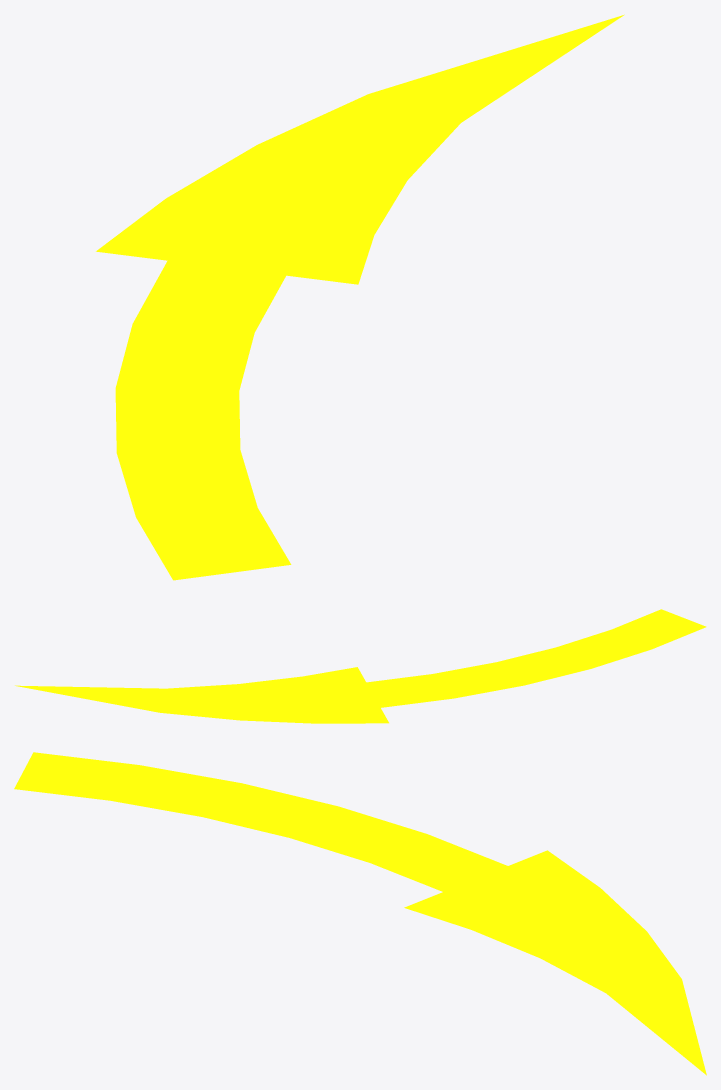
Rendered from Arrow_right.glb.
The picture shows the model from 3 angles, top to bottom: view 1: azimuth 30°, elevation 25°; view 2: azimuth 150°, elevation 25°; view 3: azimuth 270°, elevation 25°; orthographic projection. The views are drawn at different scales.
Parts seen in each view (by area): view 1: 平面.042; view 2: 平面.042; view 3: 平面.042.
Boxes of the visible parts, x1=… form: 平面.042: x1=96, y1=14, x2=624, y2=580; 平面.042: x1=15, y1=609, x2=706, y2=723; 平面.042: x1=14, y1=752, x2=706, y2=1075.
Bounding box in the file's own units: 4.22 × 0 × 3.82.
Materials: 1 (1 with a texture image).
